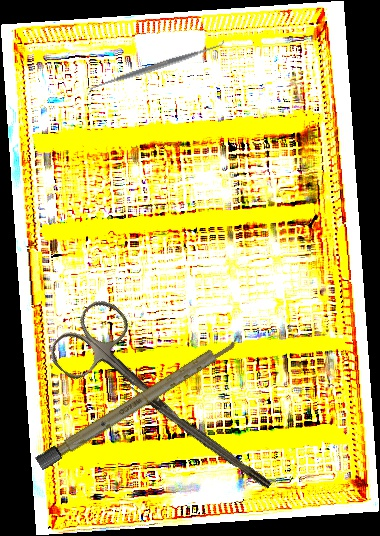Hook Surgical: (119, 376, 273, 491)
Iris Scissors: (43, 292, 217, 462)
Scalpel Handle: (34, 332, 244, 471)
Spatula Surgical: (84, 36, 228, 98)
